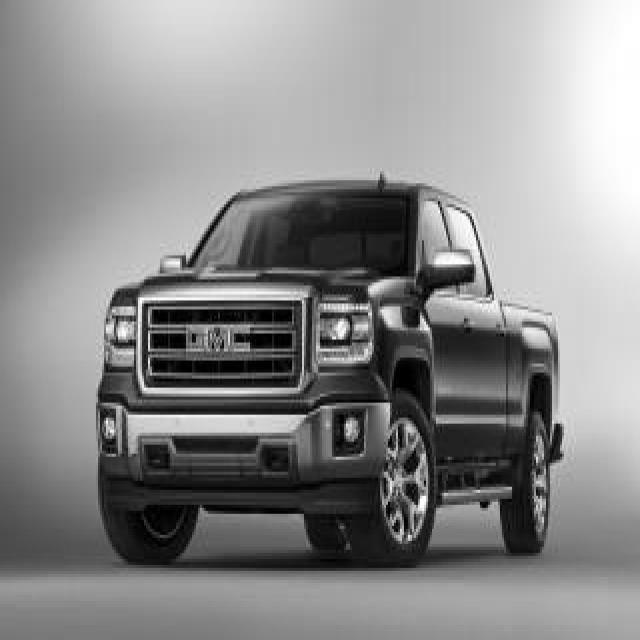Car: (96, 178, 563, 562)
